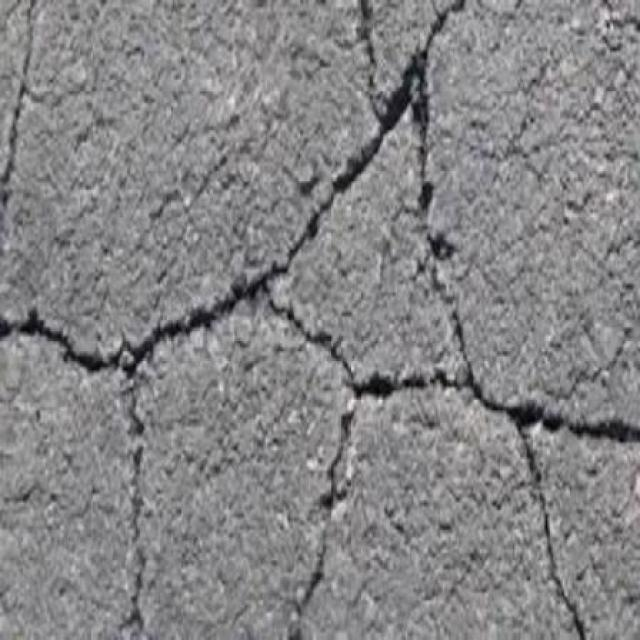Crack: (0, 0, 640, 639), (120, 444, 146, 633), (16, 29, 50, 139), (428, 232, 455, 308), (302, 549, 325, 606), (0, 146, 14, 206)
